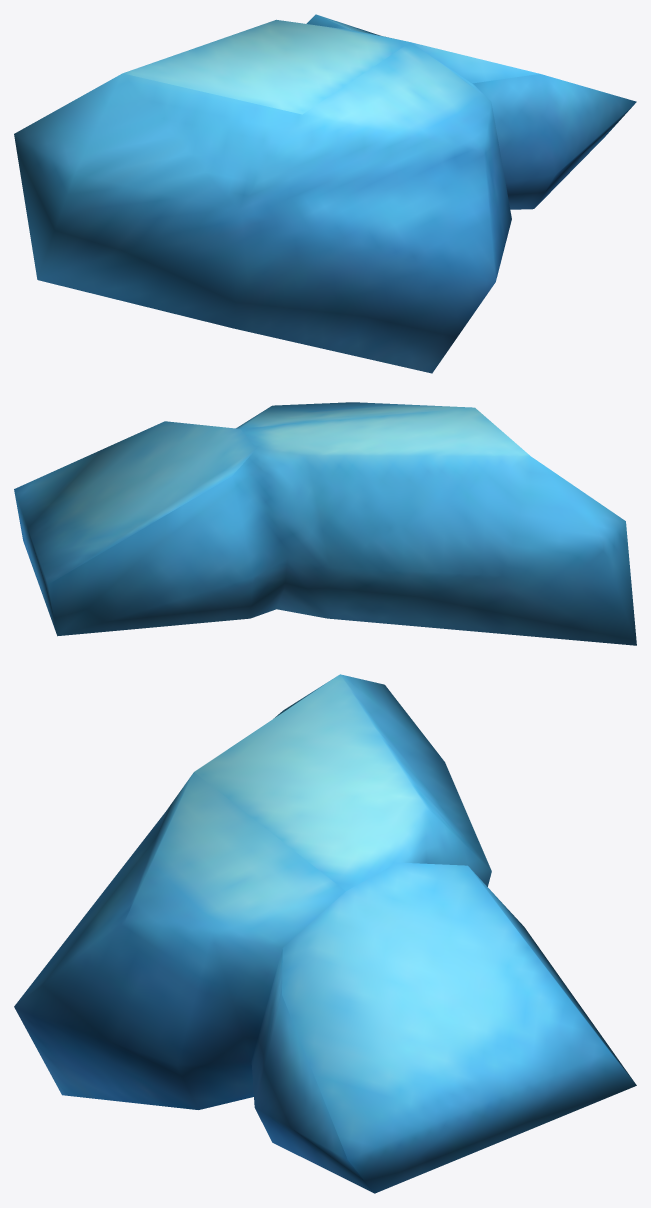
The model's file is Stage_BingYuan_BingLing12.FBX.
3 renders of one model, top to bottom at view 1: azimuth 30°, elevation 25°; view 2: azimuth 150°, elevation 25°; view 3: azimuth 270°, elevation 25°, orthographic. The views are drawn at different scales.
Parts seen in each view (by area): view 1: Stage_BingYuan_BingLing12; view 2: Stage_BingYuan_BingLing12; view 3: Stage_BingYuan_BingLing12.
Part boxes in pixels (bbox=[...]): Stage_BingYuan_BingLing12: bbox=[14, 14, 636, 373]; Stage_BingYuan_BingLing12: bbox=[14, 402, 636, 645]; Stage_BingYuan_BingLing12: bbox=[14, 674, 636, 1193].
Size of the model in its own units: 91.26 by 37.13 by 67.7.
